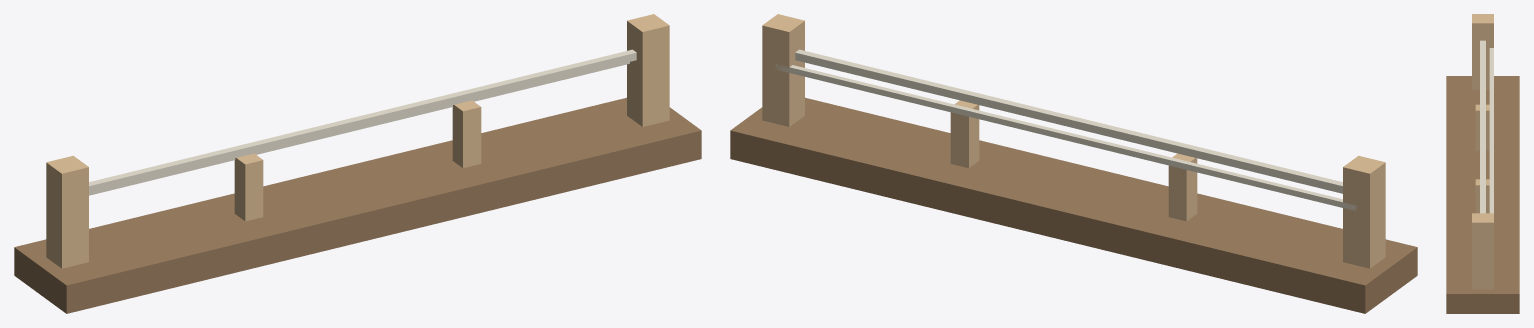
File: prop-bowstring-jig.fbx
3 views of the same model, side by side, from view 1: azimuth 30°, elevation 25°; view 2: azimuth 150°, elevation 25°; view 3: azimuth 270°, elevation 25° (orthographic). The views are drawn at different scales.
Visible parts, largest first — view 1: prop-bowstring-jig; view 2: prop-bowstring-jig; view 3: prop-bowstring-jig.
Boxes of the visible parts, x1=… form: prop-bowstring-jig: x1=14, y1=14, x2=701, y2=313; prop-bowstring-jig: x1=730, y1=14, x2=1417, y2=313; prop-bowstring-jig: x1=1446, y1=14, x2=1519, y2=313.
Bounding box in the file's own units: 70 × 13 × 10.
